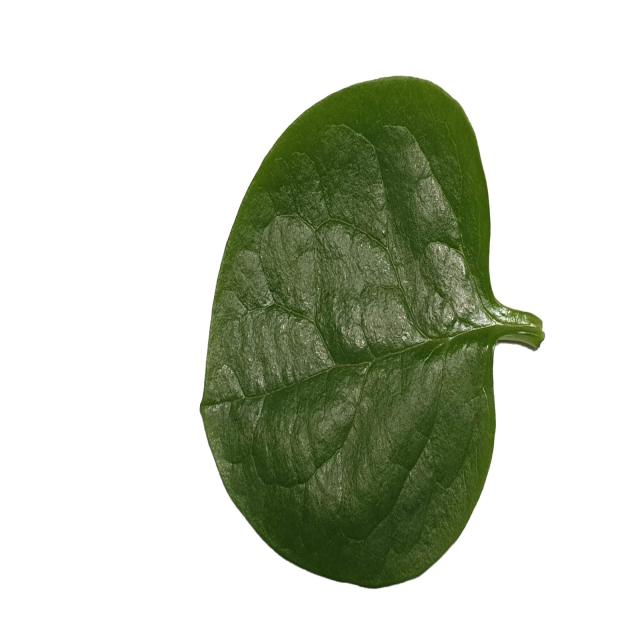Medicinal-Basale: (198, 71, 544, 591)
